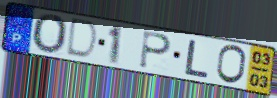1: (107, 23, 127, 68)
D: (64, 16, 100, 62)
L: (182, 38, 210, 80)
O: (32, 13, 70, 57), (214, 43, 248, 86)
P: (137, 29, 173, 71)
